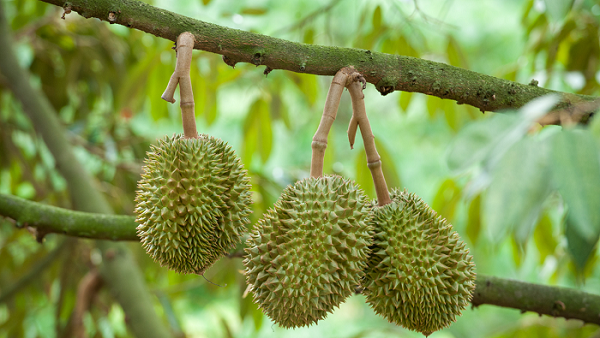sau_rieng: (251, 38, 482, 329), (92, 26, 246, 277)
